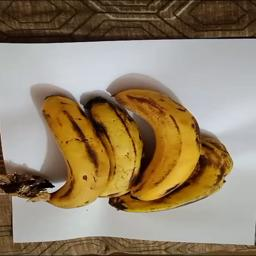Banana Semifresh: (11, 95, 235, 218)
